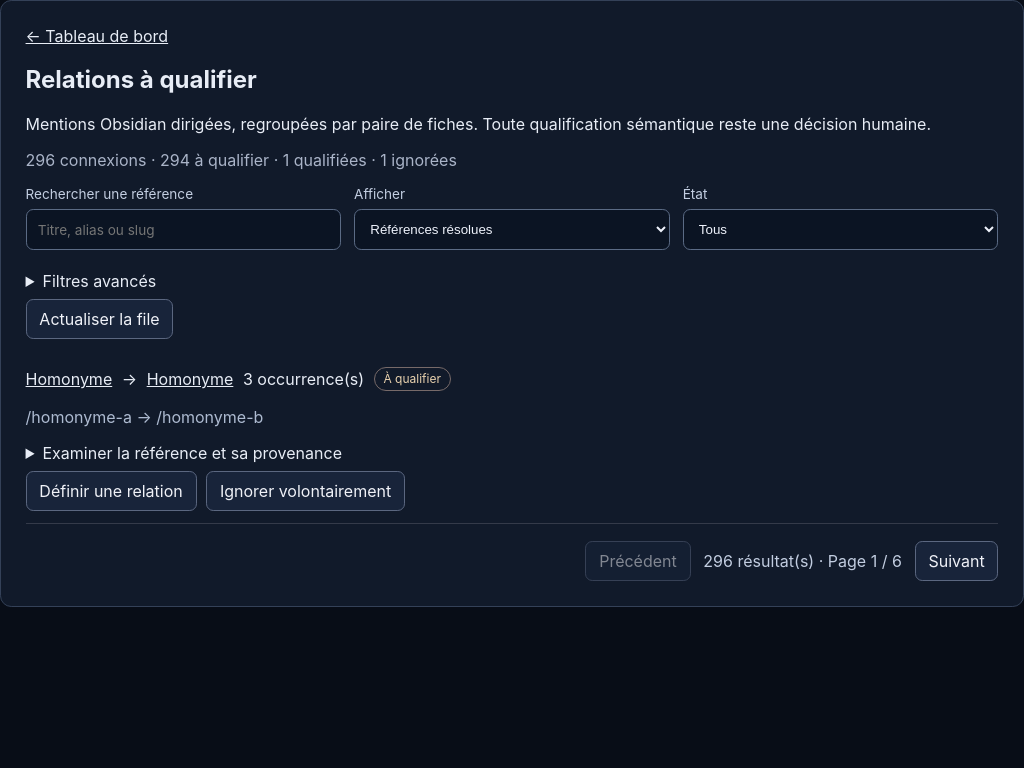
Test: file de qualification › une mutation refusée (409) ne valide pas optimistement la décision
Click the button "Ignorer volontairement" at point(306, 491), box top-left (206, 471), bottom-right (405, 511)
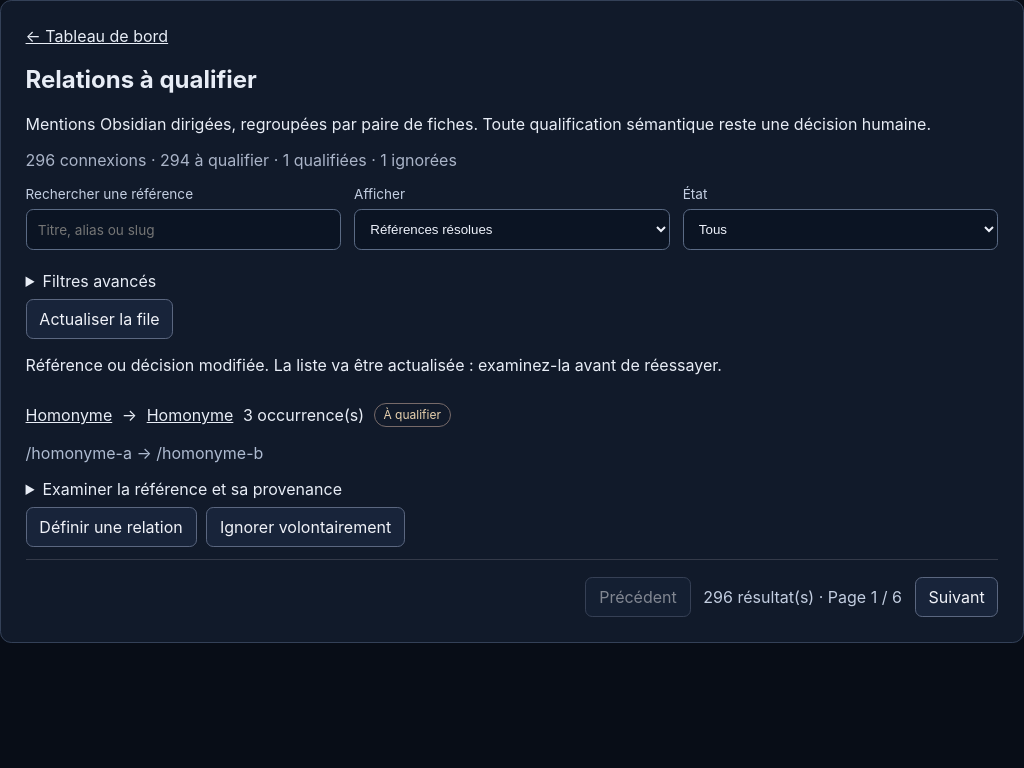
expect the text "Référence ou décision modifiée" is shown: met, box top-left (26, 354), bottom-right (722, 374)
